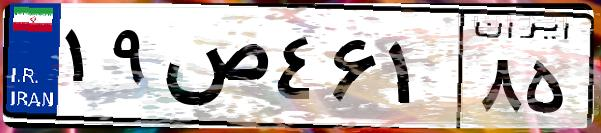1: (385, 28, 445, 110), (57, 26, 110, 100)
4: (270, 28, 330, 110)
5: (525, 38, 570, 115)
6: (330, 28, 385, 110)
8: (475, 38, 525, 113)
9: (110, 28, 158, 98)
ص: (158, 20, 270, 120)
